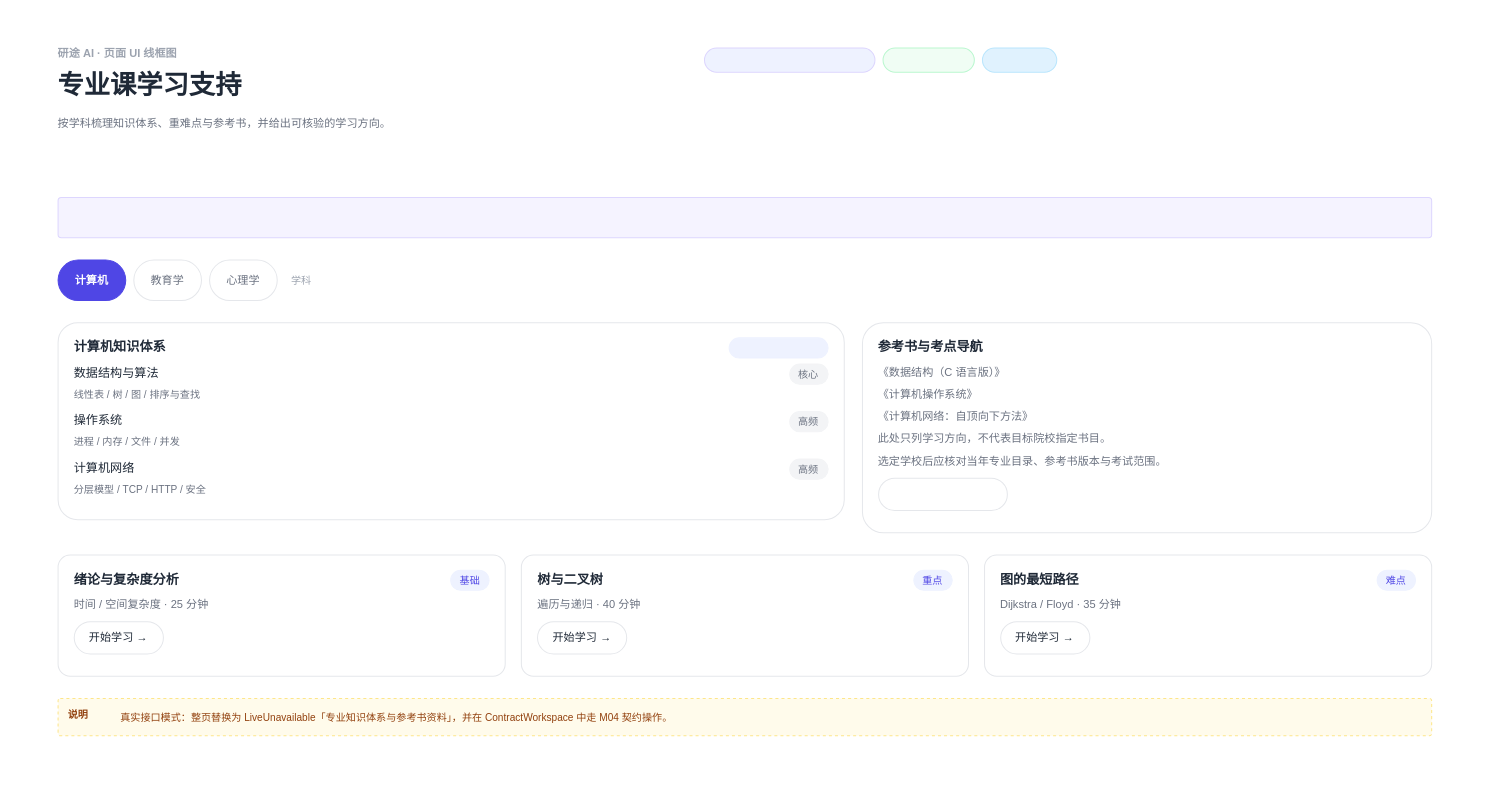
The diagram is 1491 pixels wide and 805 high, and some of its shapes have lost their labels. Each missing label, with the centre of its shape:
ⓘ 当前为前端演示。示例院校、学习资料与 AI 回复均不代表真实业务结果；本地学习操作仅保存在本浏览器。: (x=744, y=217)
先确认目标院校 →: (x=942, y=494)
模式 demo: (x=1019, y=59)
角色 STUDENT: (x=928, y=59)
路由 /professional-courses: (x=789, y=59)
重难点与真题思路: (x=778, y=347)
